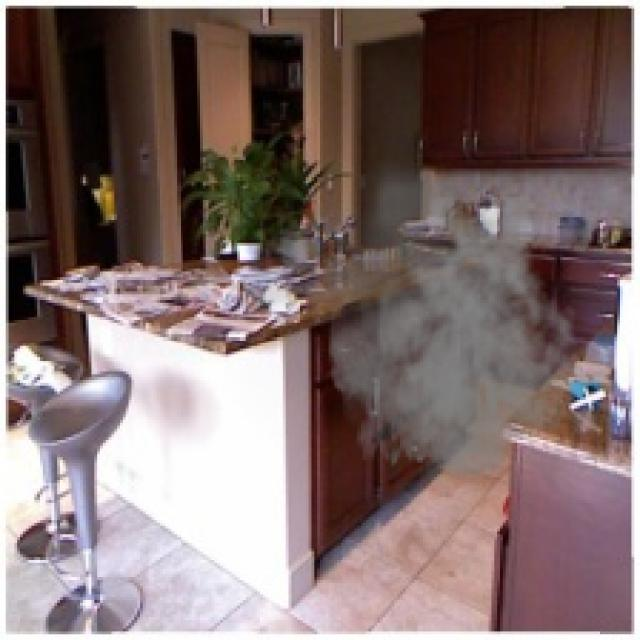smoke: (237, 154, 586, 503)
